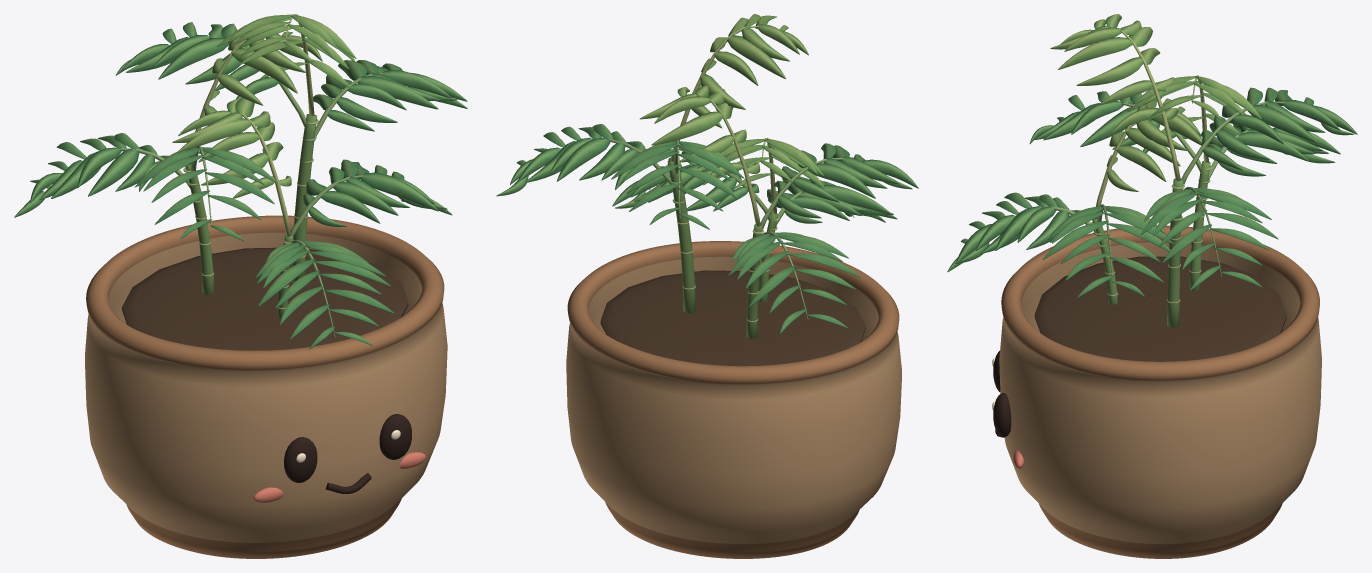
File: parlor-palm-v1.glb
3 renders of one model, left to right at view 1: azimuth 30°, elevation 25°; view 2: azimuth 150°, elevation 25°; view 3: azimuth 270°, elevation 25°, orthographic. The views are drawn at different scales.
Visible parts, largest first — view 1: Wheel-thrown ceramic, Foliage draw mesh, Soil, Eye, Eye.001; view 2: Wheel-thrown ceramic, Foliage draw mesh, Soil; view 3: Wheel-thrown ceramic, Foliage draw mesh, Soil, Eye.001.
Part boxes in pixels (x1,y1,x2,y2): Wheel-thrown ceramic: [85, 215, 447, 558]; Foliage draw mesh: [14, 14, 467, 349]; Soil: [122, 247, 408, 350]; Eye: [284, 437, 317, 482]; Eye.001: [379, 414, 411, 459]; Wheel-thrown ceramic: [566, 241, 901, 558]; Foliage draw mesh: [496, 14, 918, 338]; Soil: [600, 270, 865, 366]; Wheel-thrown ceramic: [999, 225, 1321, 558]; Foliage draw mesh: [947, 14, 1357, 327]; Soil: [1034, 256, 1286, 361]; Eye.001: [993, 393, 1011, 437].
Bounding box in the file's own units: 2.06 × 2.47 × 1.9.
